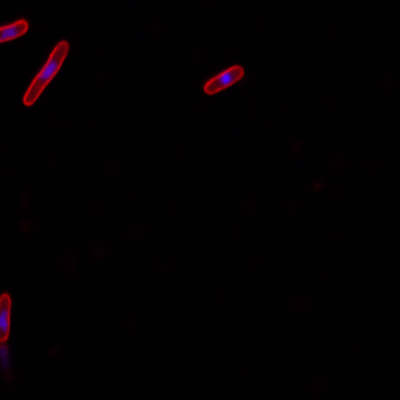Nalidixate: (20, 39, 72, 107), (203, 64, 244, 96)
